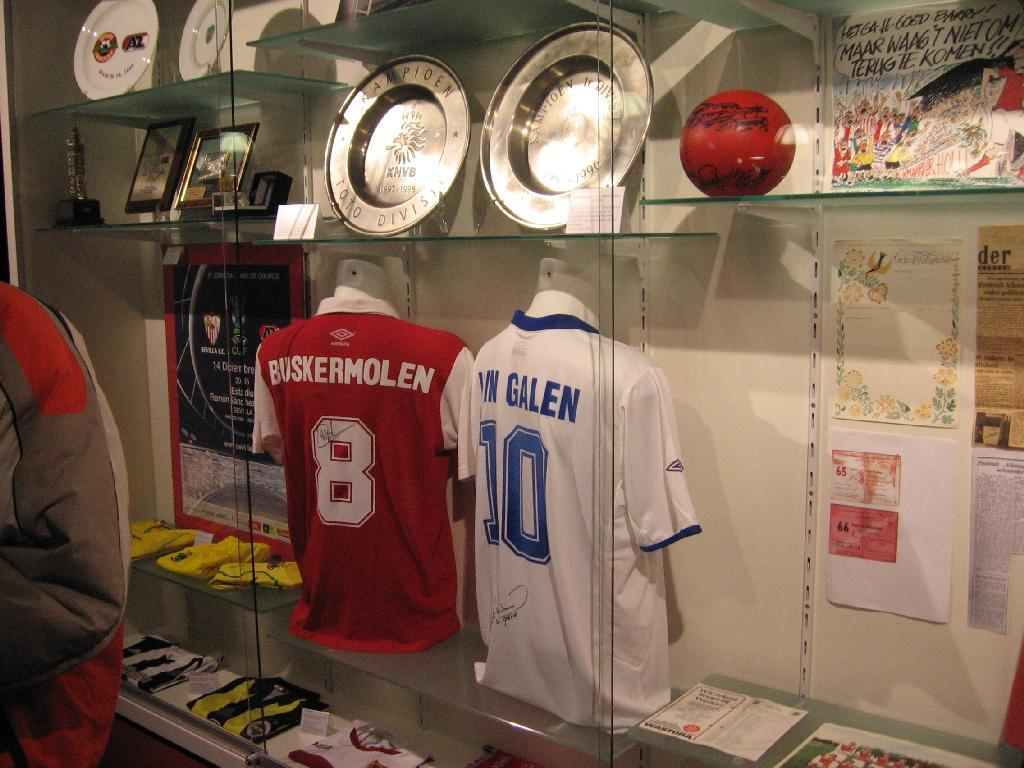Ball: (682, 90, 795, 195)
